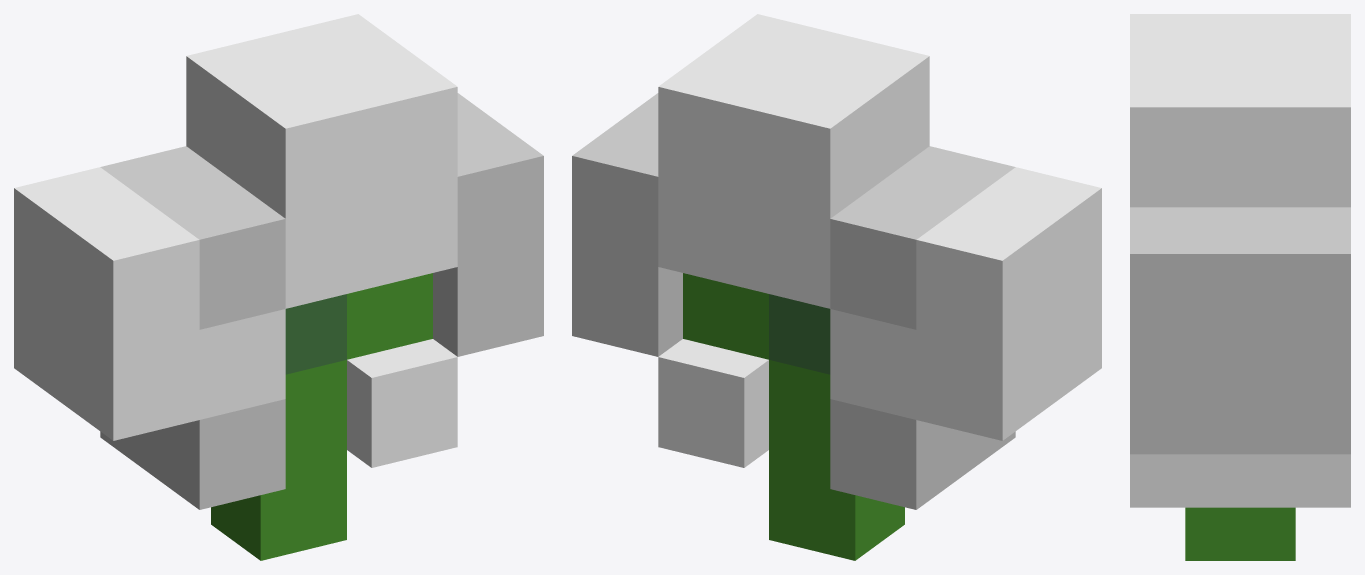
The model's file is Azure Bluet.glb.
The picture shows the model from 3 angles, left to right: view 1: azimuth 30°, elevation 25°; view 2: azimuth 150°, elevation 25°; view 3: azimuth 270°, elevation 25°; orthographic projection. The views are drawn at different scales.
Parts seen in each view (by area): view 1: generated(Clone); view 2: generated(Clone); view 3: generated(Clone).
Boxes of the visible parts, bbox=[...] form: generated(Clone): bbox=[14, 14, 543, 560]; generated(Clone): bbox=[572, 14, 1101, 560]; generated(Clone): bbox=[1130, 14, 1350, 560].
Size of the model in its own units: 10 by 10 by 4.
Materials: 1 (1 with a texture image).
